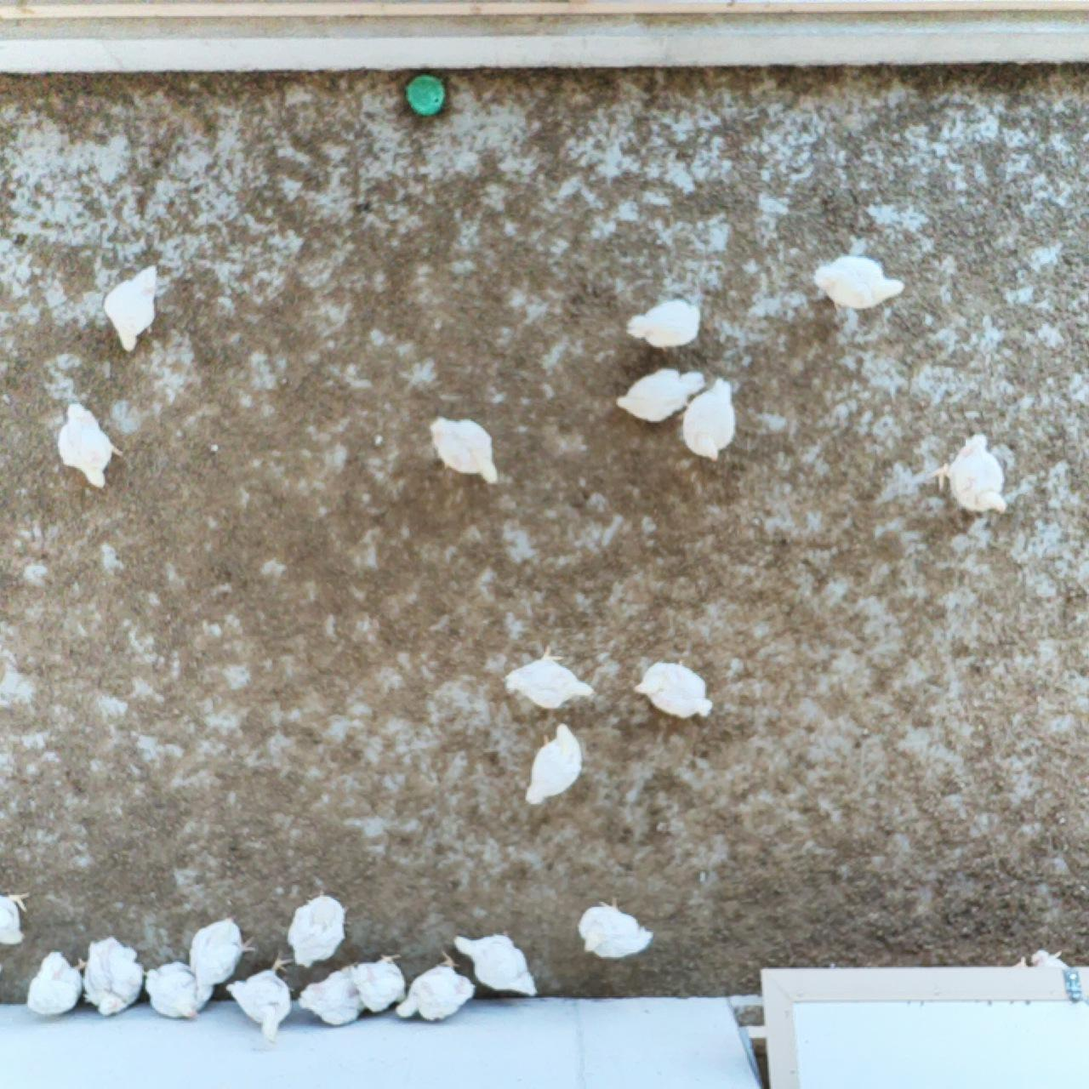chicken: (933, 431, 1011, 523), (52, 400, 123, 492), (226, 948, 294, 1042), (392, 951, 476, 1027), (502, 645, 596, 712), (448, 931, 544, 996), (188, 912, 257, 1002), (676, 374, 743, 463), (426, 409, 500, 488), (80, 934, 148, 1019), (102, 265, 162, 360), (631, 654, 715, 721), (617, 366, 706, 426), (625, 293, 702, 360), (814, 255, 904, 312), (526, 720, 584, 808), (576, 897, 655, 961), (287, 890, 348, 969), (24, 946, 90, 1019), (299, 964, 368, 1029), (343, 949, 407, 1014), (144, 957, 200, 1022), (0, 884, 28, 948)
